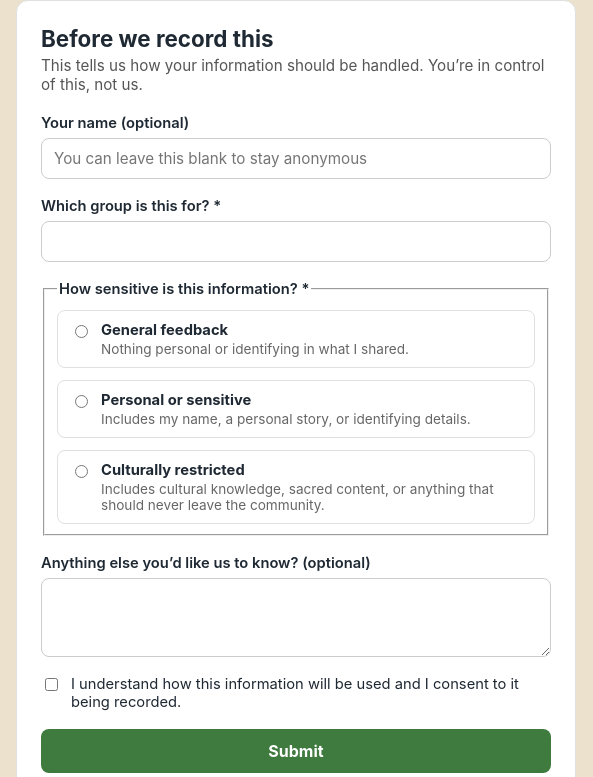
ConsentCaptureForm validation (Sub Task 22.2) › does not submit if no tier is selected
This screenshot has width=593, height=777.
Type "Youth Group A" into the field labelled "Which group is this for? *".
click(296, 242); type("Youth Group A")  # box left=41, top=221, right=551, bottom=262
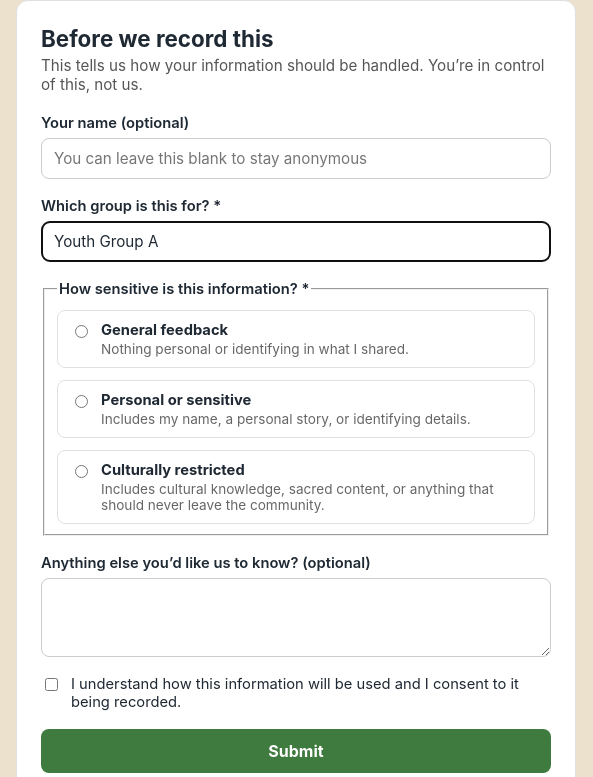
Click the button "Submit".
click(296, 751)  # box left=41, top=729, right=551, bottom=773
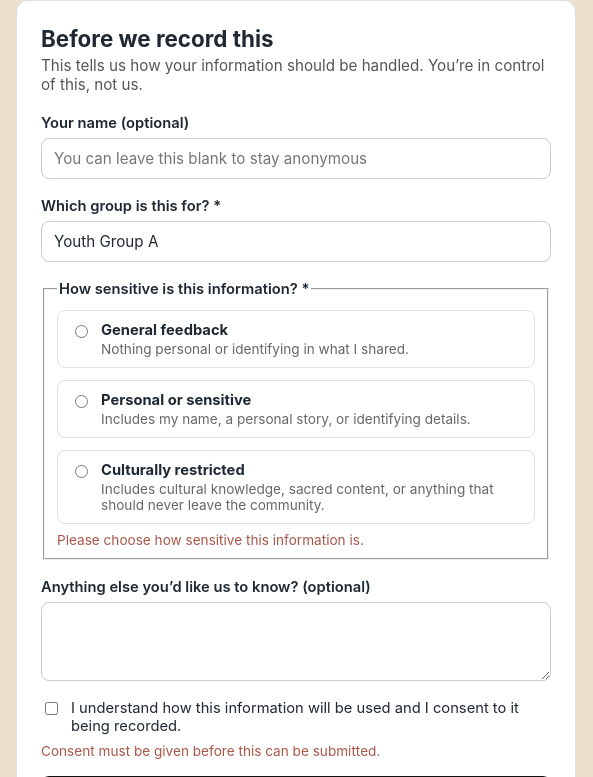
expect the text "Please choose how sensitive this information is." is shown: met, box left=57, top=532, right=364, bottom=548
